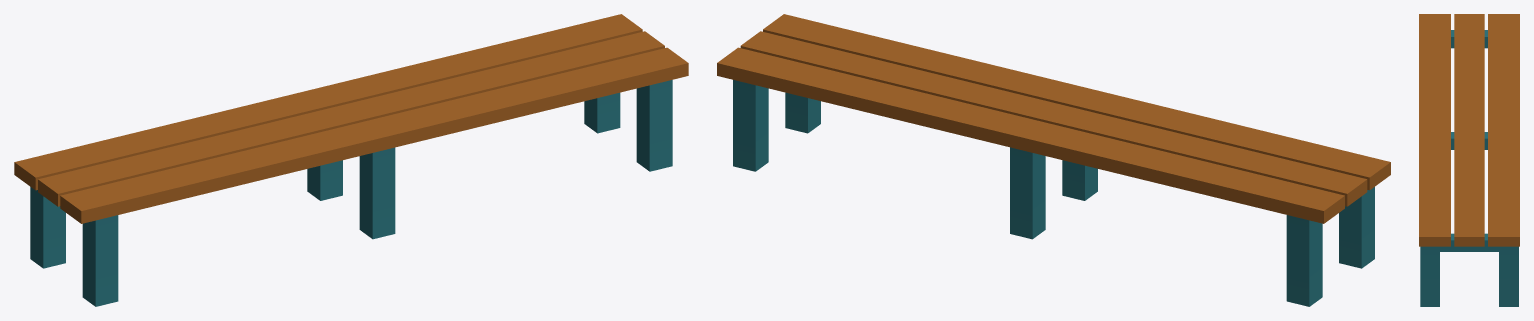
File: Bench_1_E_3.fbx
The picture shows the model from 3 angles, left to right: view 1: azimuth 30°, elevation 25°; view 2: azimuth 150°, elevation 25°; view 3: azimuth 270°, elevation 25°; orthographic projection. The views are drawn at different scales.
Parts seen in each view (by area): view 1: Bench_1_E_3; view 2: Bench_1_E_3; view 3: Bench_1_E_3.
Part boxes in pixels (x1=…): Bench_1_E_3: x1=14, y1=14, x2=688, y2=306; Bench_1_E_3: x1=717, y1=14, x2=1390, y2=306; Bench_1_E_3: x1=1419, y1=14, x2=1519, y2=306.
Size of the model in its own units: 213 by 33.54 by 40.68.
